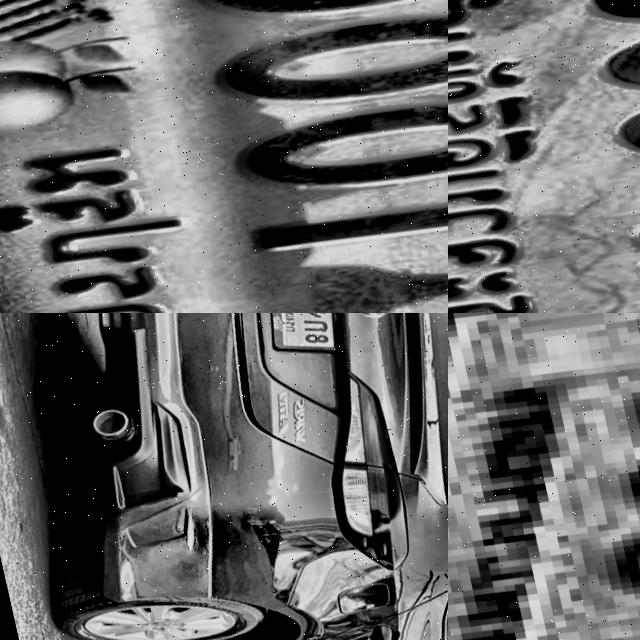license-plate: (0, 0, 448, 313), (448, 313, 640, 640), (448, 0, 640, 313), (244, 313, 356, 361)
